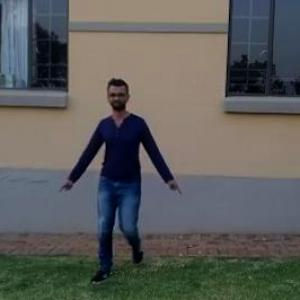land: (60, 89, 182, 273)
